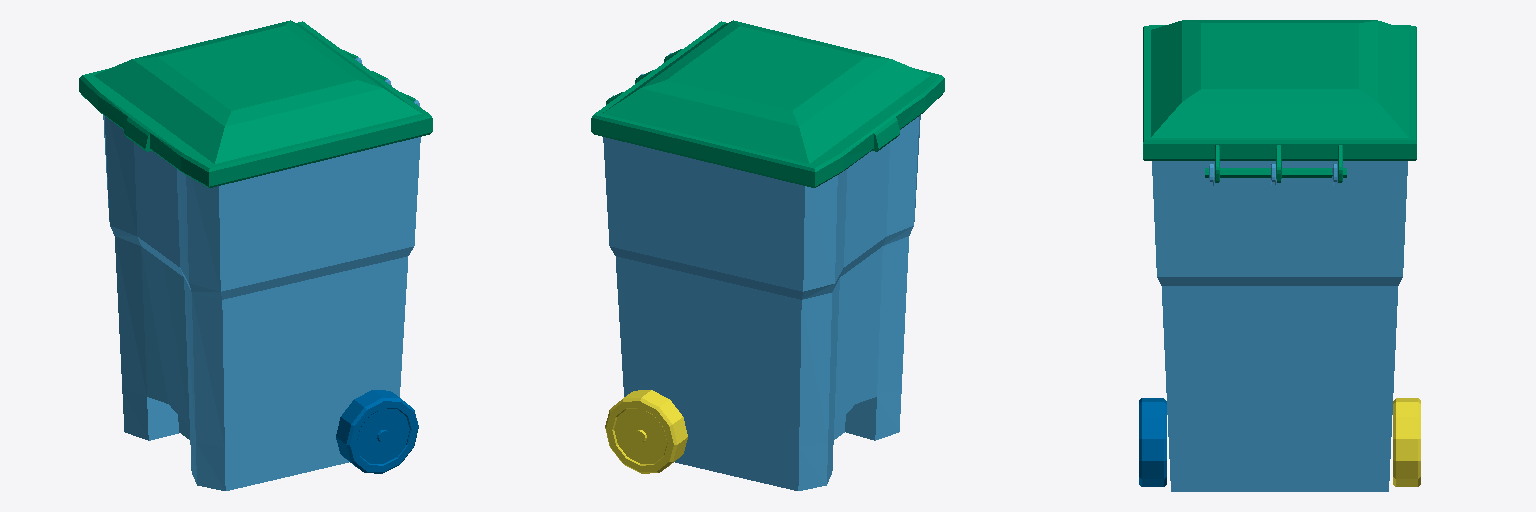
URDF robot description (00188):
<robot name="00188">
  <link name="base_link"/>
  <link name="link_0">
    <visual>
      <origin xyz="-0.0 -0.0 -0.0" rpy="0 0 0"/>
      <geometry>
        <mesh filename="textured_objs/part_007.obj"/>
      </geometry>
    </visual>
    <collision>
      <origin xyz="-0.0 -0.0 -0.0" rpy="0 0 0"/>
      <geometry>
        <mesh filename="textured_objs/part_007.obj"/>
      </geometry>
    </collision>
    <visual>
      <origin xyz="-0.0 -0.0 -0.0" rpy="0 0 0"/>
      <geometry>
        <mesh filename="textured_objs/part_008.obj"/>
      </geometry>
    </visual>
    <collision>
      <origin xyz="-0.0 -0.0 -0.0" rpy="0 0 0"/>
      <geometry>
        <mesh filename="textured_objs/part_008.obj"/>
      </geometry>
    </collision>
    <visual>
      <origin xyz="-0.0 -0.0 -0.0" rpy="0 0 0"/>
      <geometry>
        <mesh filename="textured_objs/part_009.obj"/>
      </geometry>
    </visual>
    <collision>
      <origin xyz="-0.0 -0.0 -0.0" rpy="0 0 0"/>
      <geometry>
        <mesh filename="textured_objs/part_009.obj"/>
      </geometry>
    </collision>
    <visual>
      <origin xyz="-0.0 -0.0 -0.0" rpy="0 0 0"/>
      <geometry>
        <mesh filename="textured_objs/part_010.obj"/>
      </geometry>
    </visual>
    <collision>
      <origin xyz="-0.0 -0.0 -0.0" rpy="0 0 0"/>
      <geometry>
        <mesh filename="textured_objs/part_010.obj"/>
      </geometry>
    </collision>
  </link>
  <joint name="joint_0" type="fixed">
    <parent link="base_link"/>
    <child link="link_0"/>
    <origin xyz="0.0 0.0 0.0" rpy="1.570796326794897 0 -1.570796326794897"/>
    <axis xyz="0.0 1.0 0.0"/>
  </joint>
  <link name="link_1">
    <visual>
      <origin xyz="0.3054460287094116 -0.7371997833251953 0.6817128658294678" rpy="0 0 0"/>
      <geometry>
        <mesh filename="textured_objs/part_000.obj"/>
      </geometry>
    </visual>
    <collision>
      <origin xyz="0.3054460287094116 -0.7371997833251953 0.6817128658294678" rpy="0 0 0"/>
      <geometry>
        <mesh filename="textured_objs/part_000.obj"/>
      </geometry>
    </collision>
    <visual>
      <origin xyz="0.3054460287094116 -0.7371997833251953 0.6817128658294678" rpy="0 0 0"/>
      <geometry>
        <mesh filename="textured_objs/part_001.obj"/>
      </geometry>
    </visual>
    <collision>
      <origin xyz="0.3054460287094116 -0.7371997833251953 0.6817128658294678" rpy="0 0 0"/>
      <geometry>
        <mesh filename="textured_objs/part_001.obj"/>
      </geometry>
    </collision>
    <visual>
      <origin xyz="0.3054460287094116 -0.7371997833251953 0.6817128658294678" rpy="0 0 0"/>
      <geometry>
        <mesh filename="textured_objs/part_002.obj"/>
      </geometry>
    </visual>
    <collision>
      <origin xyz="0.3054460287094116 -0.7371997833251953 0.6817128658294678" rpy="0 0 0"/>
      <geometry>
        <mesh filename="textured_objs/part_002.obj"/>
      </geometry>
    </collision>
    <visual>
      <origin xyz="0.3054460287094116 -0.7371997833251953 0.6817128658294678" rpy="0 0 0"/>
      <geometry>
        <mesh filename="textured_objs/part_003.obj"/>
      </geometry>
    </visual>
    <collision>
      <origin xyz="0.3054460287094116 -0.7371997833251953 0.6817128658294678" rpy="0 0 0"/>
      <geometry>
        <mesh filename="textured_objs/part_003.obj"/>
      </geometry>
    </collision>
    <visual>
      <origin xyz="0.3054460287094116 -0.7371997833251953 0.6817128658294678" rpy="0 0 0"/>
      <geometry>
        <mesh filename="textured_objs/part_006.obj"/>
      </geometry>
    </visual>
    <collision>
      <origin xyz="0.3054460287094116 -0.7371997833251953 0.6817128658294678" rpy="0 0 0"/>
      <geometry>
        <mesh filename="textured_objs/part_006.obj"/>
      </geometry>
    </collision>
  </link>
  <joint name="joint_1" type="revolute">
    <parent link="link_0"/>
    <child link="link_1"/>
    <origin xyz="-0.3054460287094116 0.7371997833251953 -0.6817128658294678" rpy="0 0 0"/>
    <axis xyz="-1.0 0.0 0.0"/>
    <limit lower="0.0" upper="4.281292442089203" effort="10.0" velocity="1.0"/>
  </joint>
  <link name="link_2">
    <visual>
      <origin xyz="0.5822116136550903 0.7957156300544739 0.31604480743408203" rpy="0 0 0"/>
      <geometry>
        <mesh filename="textured_objs/part_004.obj"/>
      </geometry>
    </visual>
    <collision>
      <origin xyz="0.5822116136550903 0.7957156300544739 0.31604480743408203" rpy="0 0 0"/>
      <geometry>
        <mesh filename="textured_objs/part_004.obj"/>
      </geometry>
    </collision>
  </link>
  <joint name="joint_2" type="continuous">
    <parent link="link_0"/>
    <child link="link_2"/>
    <origin xyz="-0.5822116136550903 -0.7957156300544739 -0.31604480743408203" rpy="0 0 0"/>
    <axis xyz="1.0 0.0 0.0"/>
  </joint>
  <link name="link_3">
    <visual>
      <origin xyz="-0.5822116136550903 0.7958641052246094 0.31599244475364685" rpy="0 0 0"/>
      <geometry>
        <mesh filename="textured_objs/part_005.obj"/>
      </geometry>
    </visual>
    <collision>
      <origin xyz="-0.5822116136550903 0.7958641052246094 0.31599244475364685" rpy="0 0 0"/>
      <geometry>
        <mesh filename="textured_objs/part_005.obj"/>
      </geometry>
    </collision>
  </link>
  <joint name="joint_3" type="continuous">
    <parent link="link_0"/>
    <child link="link_3"/>
    <origin xyz="0.5822116136550903 -0.7958641052246094 -0.31599244475364685" rpy="0 0 0"/>
    <axis xyz="1.0 0.0 0.0"/>
  </joint>
</robot>

--- Facts derived from the render (not from the file) ---
Views: 3 orthographic renders of the robot side by side, from view 1: azimuth 30°, elevation 25°; view 2: azimuth 150°, elevation 25°; view 3: azimuth 270°, elevation 25°.
Model 00188 with 5 links and 4 joints (1 revolute, 2 continuous, 1 fixed), rooted at base_link, posed every joint at zero.
Visible links, largest first — view 1: link_0, link_1, link_3; view 2: link_0, link_1, link_2; view 3: link_0, link_1, link_2, link_3.
Boxes of the visible links, x1=… form: link_0: x1=103, y1=57, x2=420, y2=490; link_1: x1=79, y1=20, x2=432, y2=187; link_3: x1=336, y1=390, x2=418, y2=473; link_0: x1=603, y1=53, x2=920, y2=490; link_1: x1=591, y1=20, x2=944, y2=187; link_2: x1=605, y1=390, x2=687, y2=473; link_0: x1=1152, y1=161, x2=1407, y2=491; link_1: x1=1143, y1=20, x2=1416, y2=182; link_2: x1=1393, y1=398, x2=1420, y2=486; link_3: x1=1139, y1=398, x2=1166, y2=486.
Size in the robot's own frame: 1.43 by 1.29 by 2 metres.
11 mesh visuals loaded from 11 distinct referenced files (11 OBJ).
